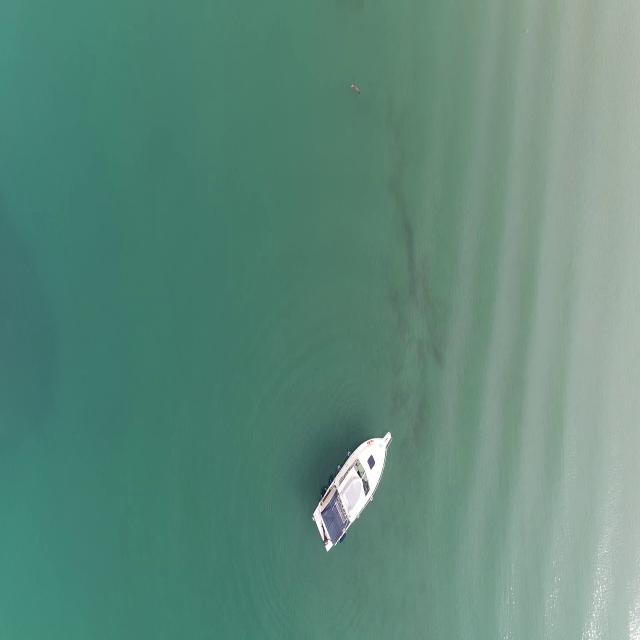boat: (313, 427, 391, 559)
wood: (350, 82, 362, 96)
